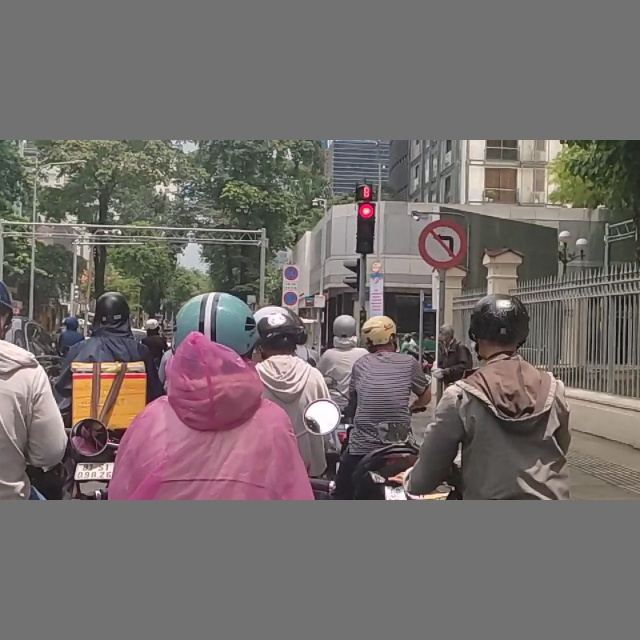P.123a: (417, 219, 466, 269)
P.130: (283, 265, 298, 281)
P.131a: (284, 291, 299, 307)
